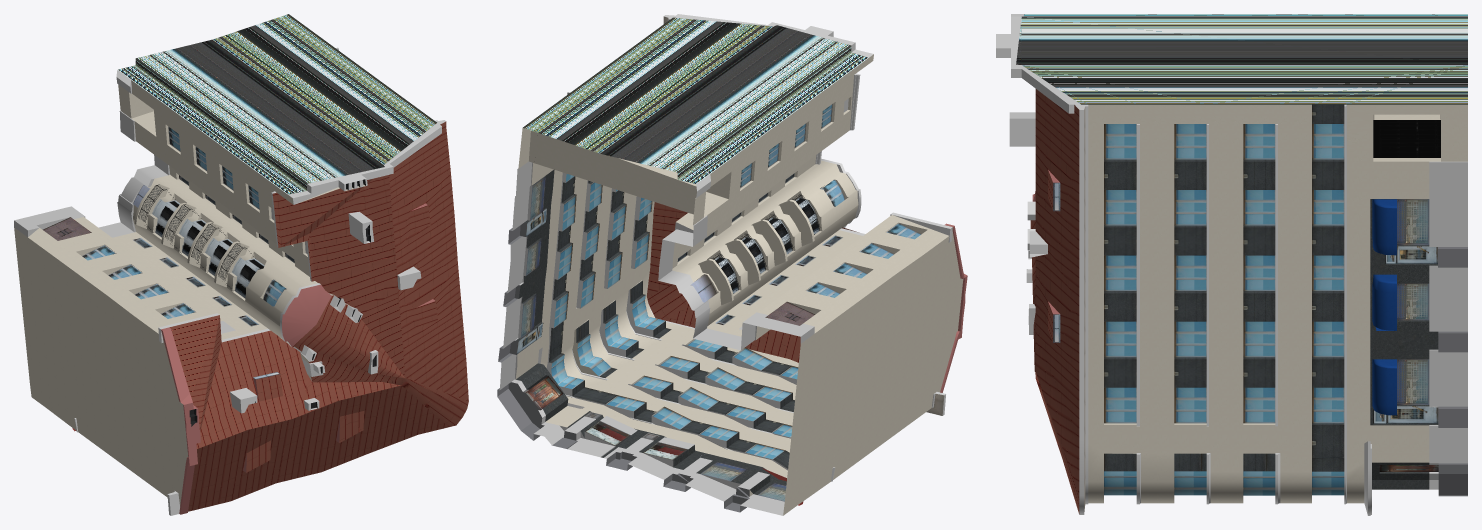
File: Aia_5-origo.obj
3 views of the same model, side by side, from view 1: azimuth 30°, elevation 25°; view 2: azimuth 150°, elevation 25°; view 3: azimuth 270°, elevation 25° (orthographic). The views are drawn at different scales.
Visible parts, largest first — view 1: Aia5; view 2: Aia5; view 3: Aia5.
Boxes of the visible parts, x1=… form: Aia5: x1=14, y1=14, x2=468, y2=515; Aia5: x1=497, y1=14, x2=967, y2=515; Aia5: x1=996, y1=14, x2=1467, y2=515.
Size of the model in its own units: 23.25 by 24 by 23.59.
